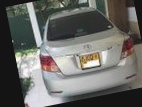car: (31, 0, 142, 102)
